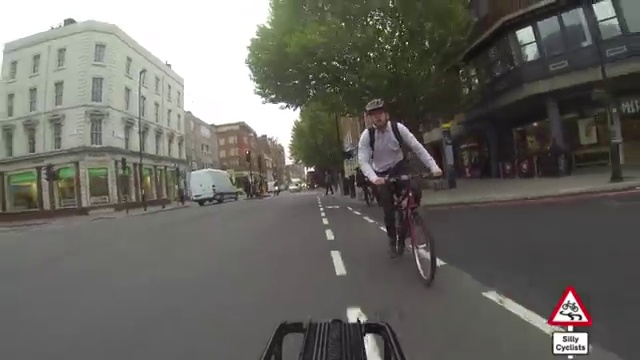cyclist_front: (357, 97, 448, 290)
